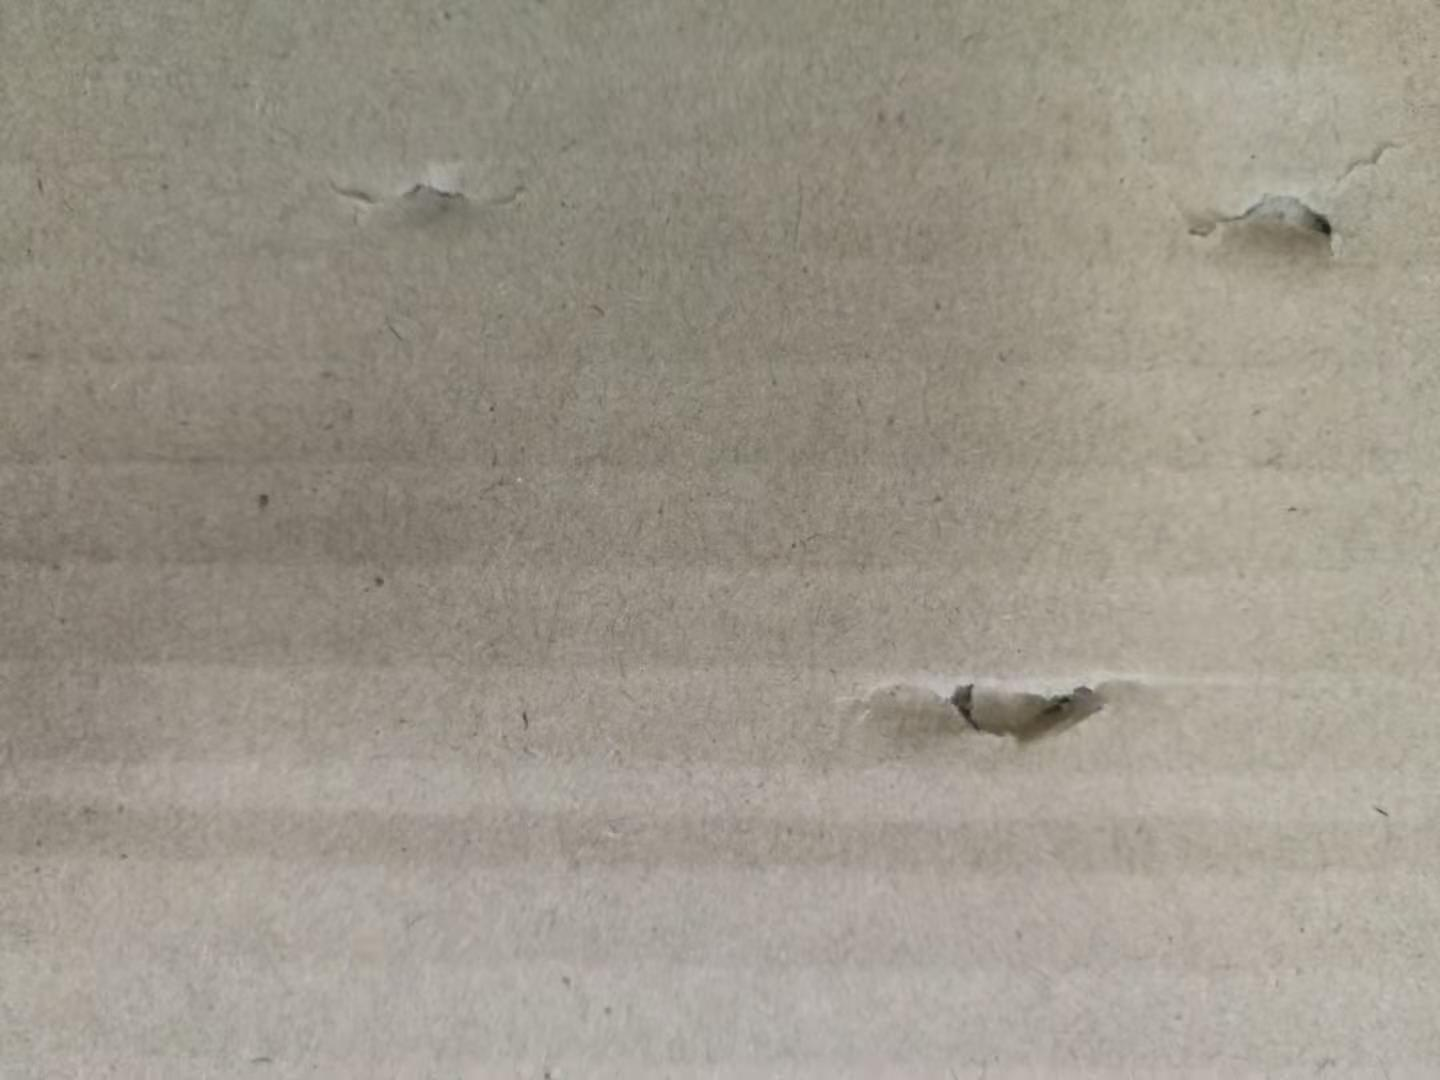defect: (810, 647, 1211, 809), (1142, 117, 1424, 294), (304, 125, 567, 251)
